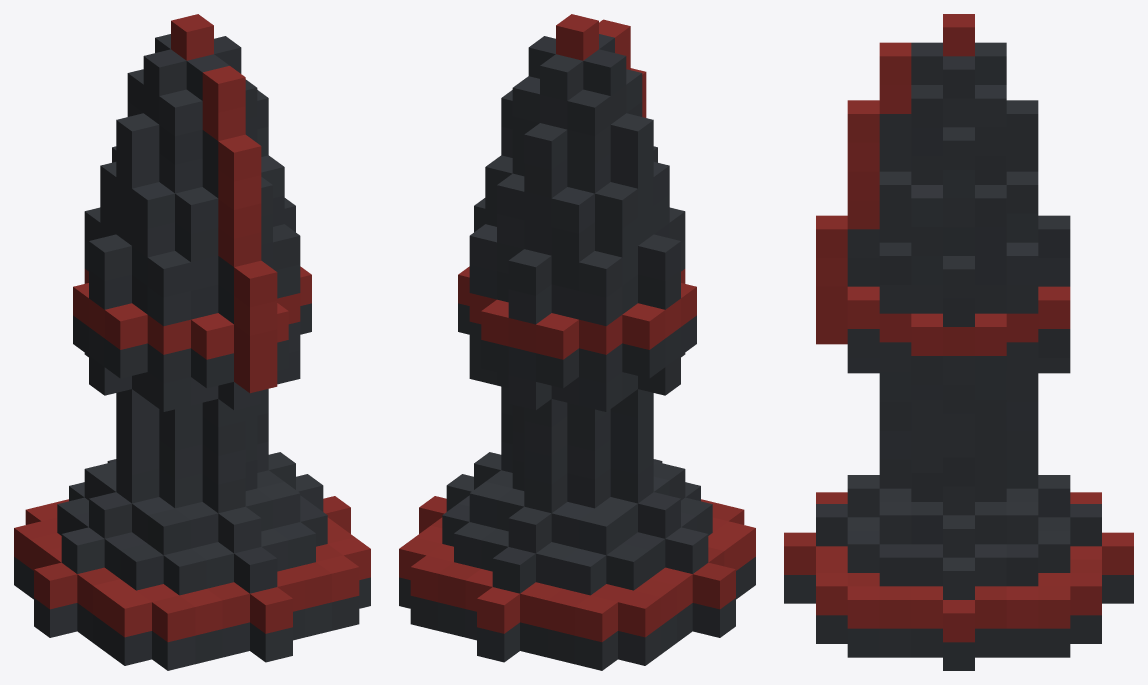
The model's file is black_queen.glb.
The picture shows the model from 3 angles, left to right: view 1: azimuth 30°, elevation 25°; view 2: azimuth 150°, elevation 25°; view 3: azimuth 270°, elevation 25°; orthographic projection.
Bounding box in the file's own units: 1.1 × 2 × 1.1.
